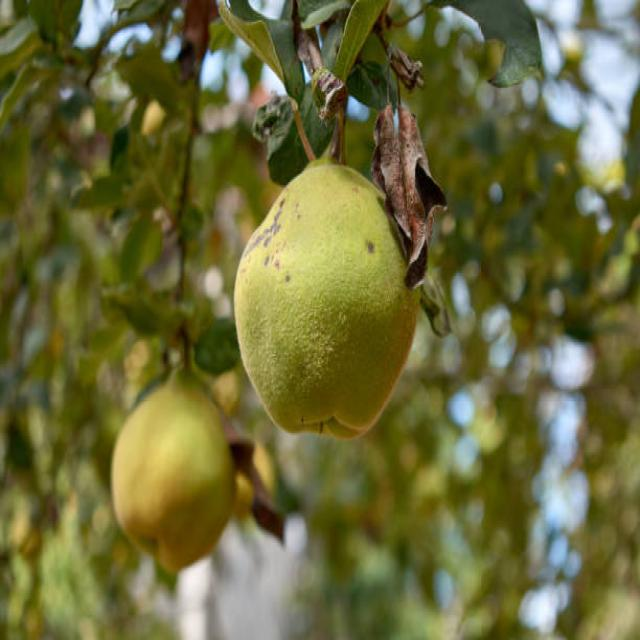Unripe: (232, 152, 419, 442), (112, 373, 239, 570)
